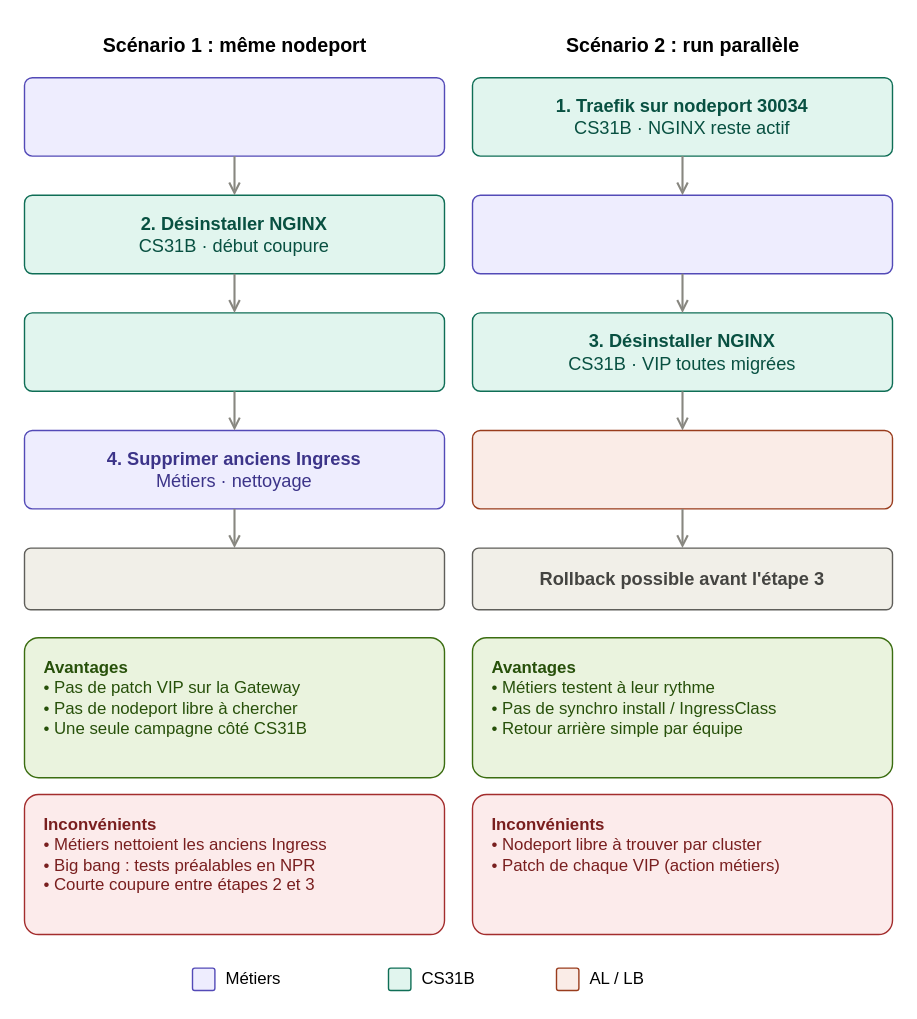
Some shapes in this 917 by 1019 pixel diagram are drawn without their labels. Each missing label, with the box of its shape:
1. Créer Ingress Traefik Métiers · sans coupure: (23, 76, 444, 156)
2. Patch VIP + IngressClass Métiers · à leur rythme: (471, 194, 892, 274)
3. Traefik sur nodeport 30033 CS31B · fin coupure: (23, 312, 444, 391)
4. Nodeport défaut Gateway AL / LB · en dernier: (471, 429, 892, 509)
Gateway inchangée: (23, 547, 444, 610)
